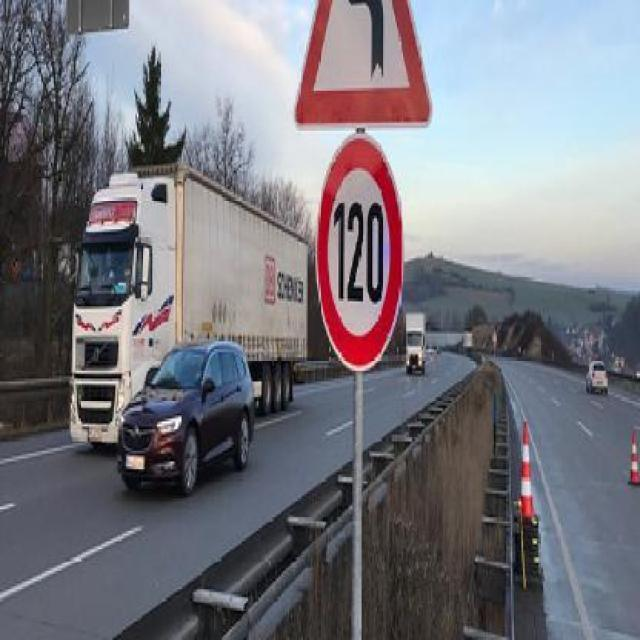forb_speed_over_120: (318, 133, 405, 370)
